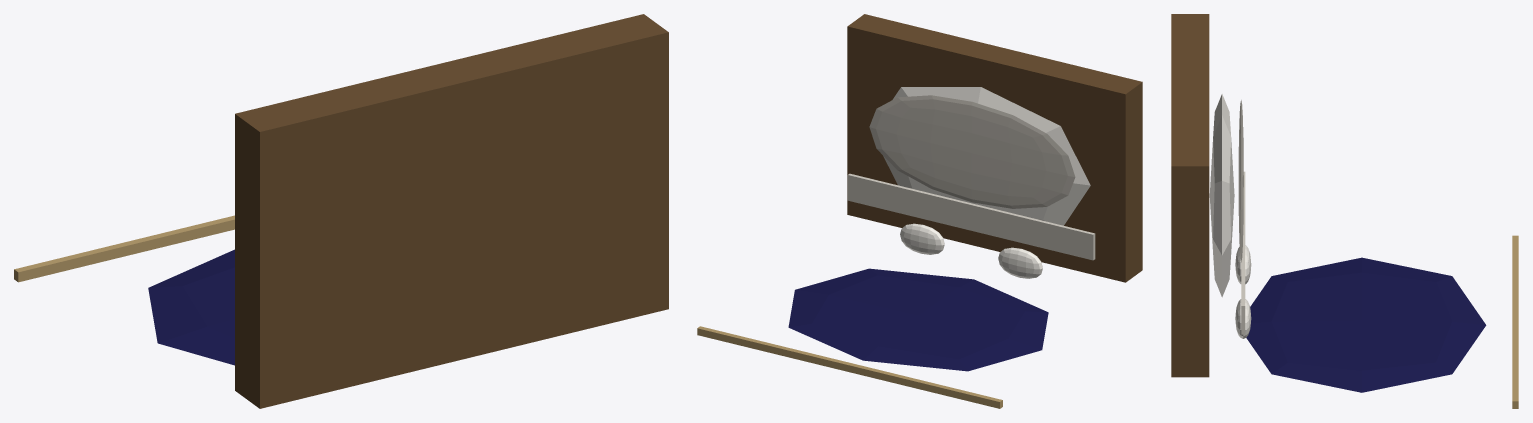
The model's file is bed.obj.
3 views of the same model, side by side, from view 1: azimuth 30°, elevation 25°; view 2: azimuth 150°, elevation 25°; view 3: azimuth 270°, elevation 25° (orthographic). The views are drawn at different scales.
Parts seen in each view (by area): view 1: Bed; view 2: Bed; view 3: Bed.
Boxes of the visible parts, <box> form: Bed: <box>14,14,668,408</box>; Bed: <box>697,14,1142,408</box>; Bed: <box>1171,14,1518,408</box>.
Size of the model in its own units: 3.7 by 2.5 by 3.28.
